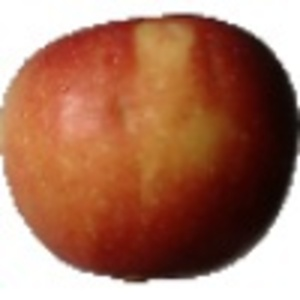maçã braeburn: (1, 8, 299, 280)
